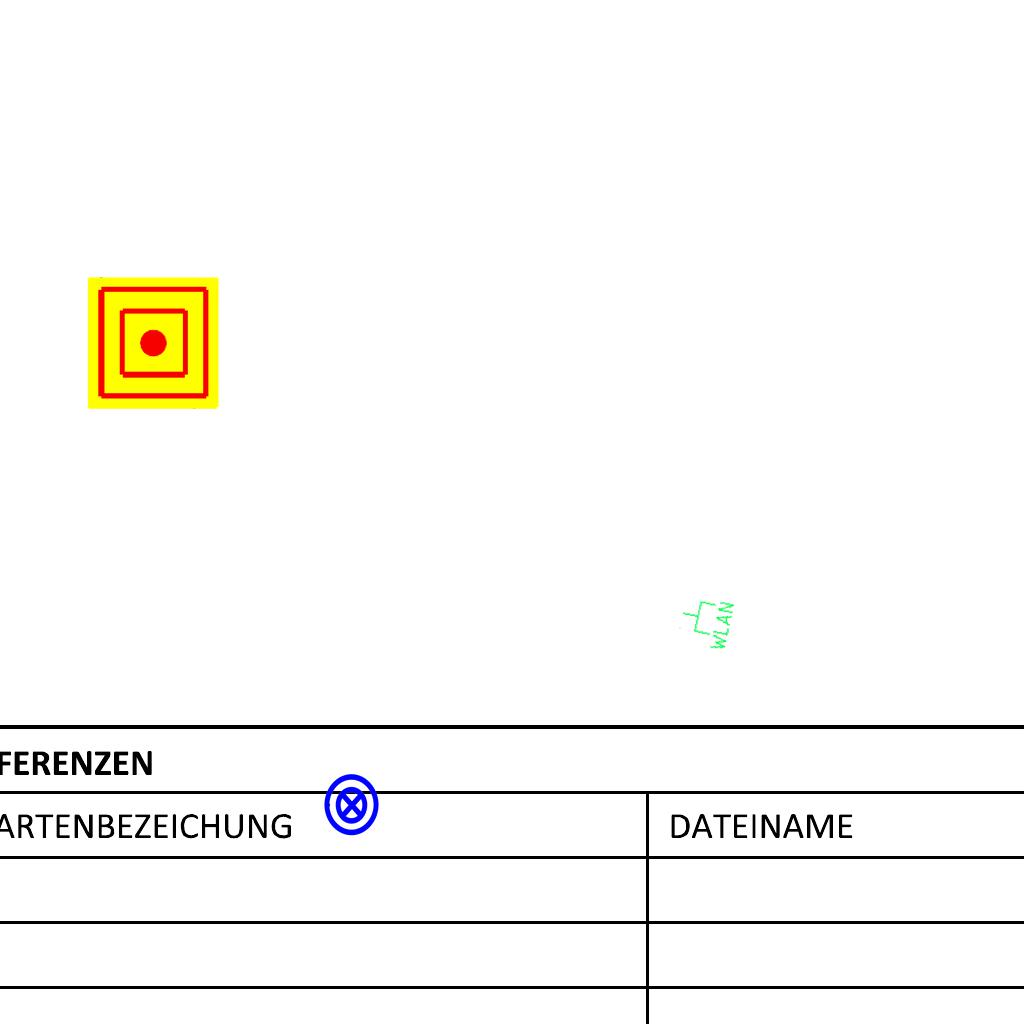NAM-Nichtautomatischer_Melder: (87, 277, 219, 409)
Taster_beleuchtet: (319, 772, 385, 838)
WLAN: (675, 592, 737, 654)
